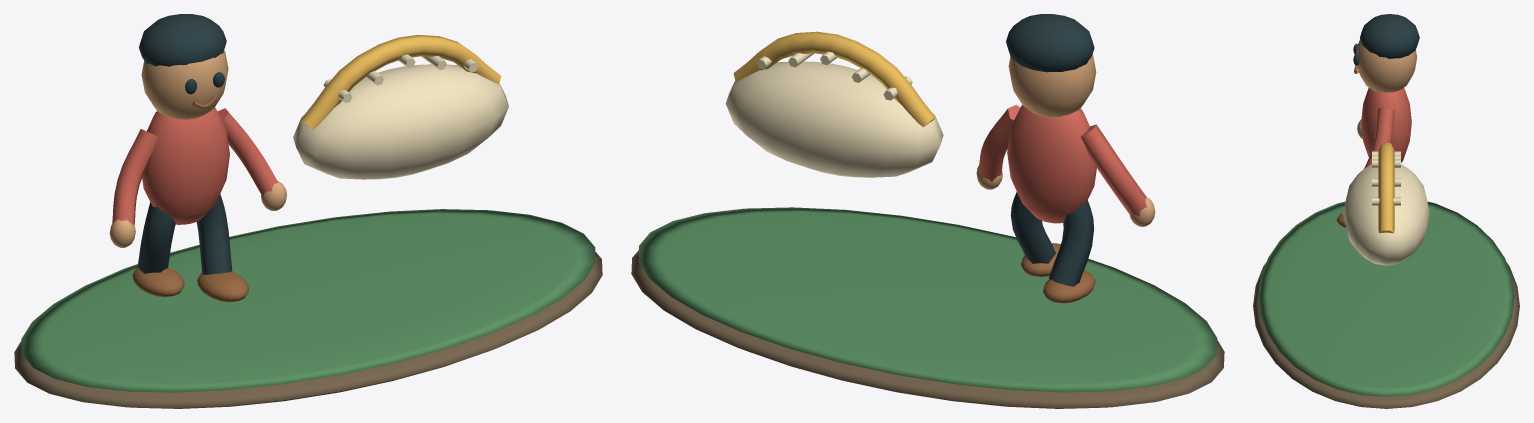
Rendered from child-dumpling.glb.
3 renders of one model, left to right at view 1: azimuth 30°, elevation 25°; view 2: azimuth 150°, elevation 25°; view 3: azimuth 270°, elevation 25°, orthographic. The views are drawn at different scales.
Visible parts, largest first — view 1: child-dumpling_surface_01, child-dumpling_surface_02, child-dumpling_surface_07, child-dumpling_surface_00, child-dumpling_surface_05, child-dumpling_surface_04, child-dumpling_surface_03, child-dumpling_surface_06; view 2: child-dumpling_surface_01, child-dumpling_surface_02, child-dumpling_surface_07, child-dumpling_surface_00, child-dumpling_surface_05, child-dumpling_surface_03, child-dumpling_surface_04, child-dumpling_surface_06; view 3: child-dumpling_surface_01, child-dumpling_surface_02, child-dumpling_surface_00, child-dumpling_surface_07, child-dumpling_surface_05, child-dumpling_surface_04, child-dumpling_surface_03.
Part boxes in pixels (box(x1,y1,x2,y2)): child-dumpling_surface_01: box(21, 209, 595, 392); child-dumpling_surface_02: box(293, 54, 508, 179); child-dumpling_surface_07: box(112, 107, 278, 225); child-dumpling_surface_00: box(14, 252, 602, 408); child-dumpling_surface_05: box(137, 14, 232, 274); child-dumpling_surface_04: box(109, 50, 286, 247); child-dumpling_surface_03: box(301, 35, 501, 129); child-dumpling_surface_06: box(132, 96, 249, 302); child-dumpling_surface_01: box(638, 207, 1217, 392); child-dumpling_surface_02: box(725, 51, 943, 177); child-dumpling_surface_07: box(979, 105, 1146, 223); child-dumpling_surface_00: box(631, 250, 1224, 408); child-dumpling_surface_05: box(1006, 14, 1094, 286); child-dumpling_surface_03: box(733, 31, 935, 127); child-dumpling_surface_04: box(976, 53, 1155, 226); child-dumpling_surface_06: box(1021, 243, 1095, 303); child-dumpling_surface_01: box(1258, 201, 1514, 396); child-dumpling_surface_02: box(1343, 151, 1429, 265); child-dumpling_surface_00: box(1253, 262, 1519, 408); child-dumpling_surface_07: box(1360, 87, 1411, 168); child-dumpling_surface_05: box(1353, 14, 1419, 65); child-dumpling_surface_04: box(1356, 39, 1416, 138); child-dumpling_surface_03: box(1378, 143, 1394, 233).
Size of the model in its own units: 4.56 by 2.64 by 2.5.
